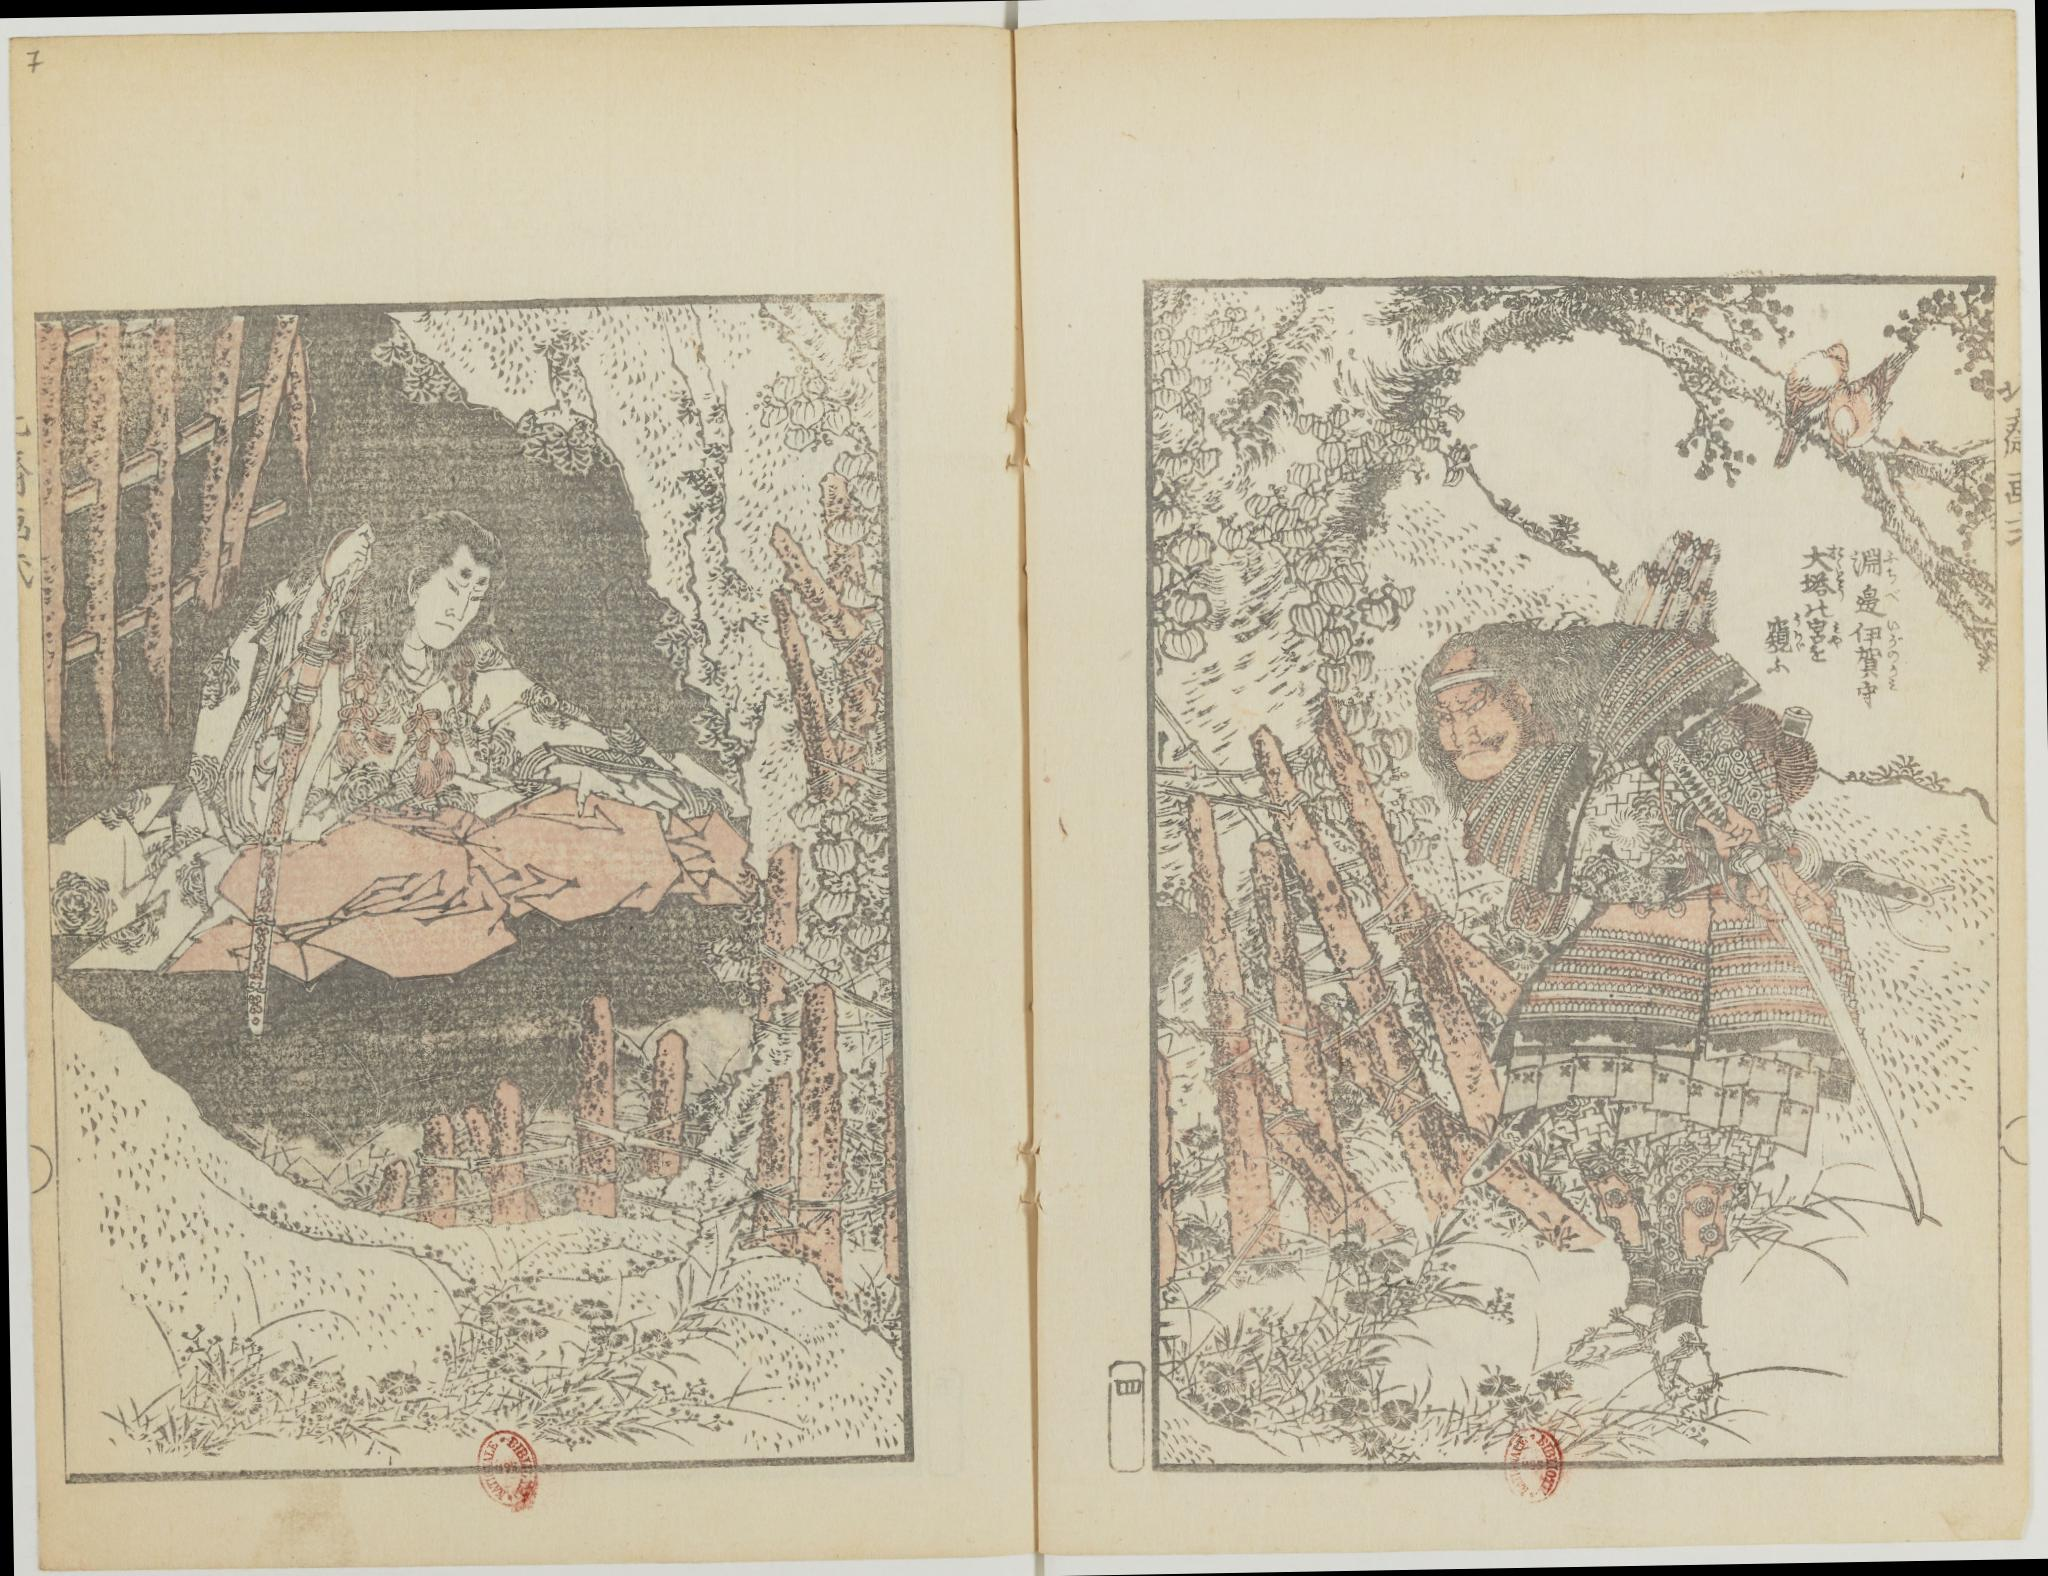MainZone-Character: (1849, 545, 1901, 583), (1853, 674, 1906, 710), (1763, 608, 1803, 656), (1853, 584, 1902, 619), (1851, 621, 1904, 647), (1853, 647, 1901, 675), (1800, 569, 1848, 598), (1808, 616, 1846, 647), (1798, 545, 1843, 569)
MainZone-Ruby: (1790, 611, 1803, 652), (1826, 616, 1843, 646), (1882, 550, 1897, 581), (1884, 621, 1902, 646), (1884, 649, 1899, 675), (1882, 586, 1902, 603), (1828, 546, 1843, 568), (1834, 568, 1844, 594), (1886, 675, 1896, 692)
